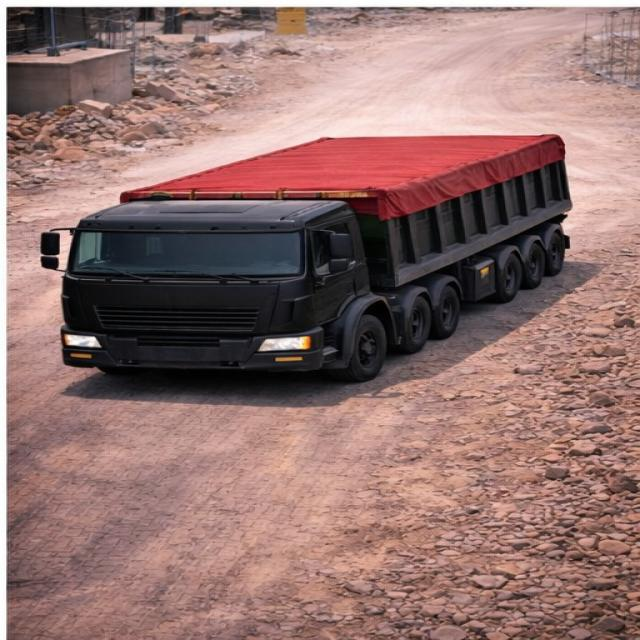trailer: (112, 135, 578, 205)
truck: (31, 116, 597, 385)
